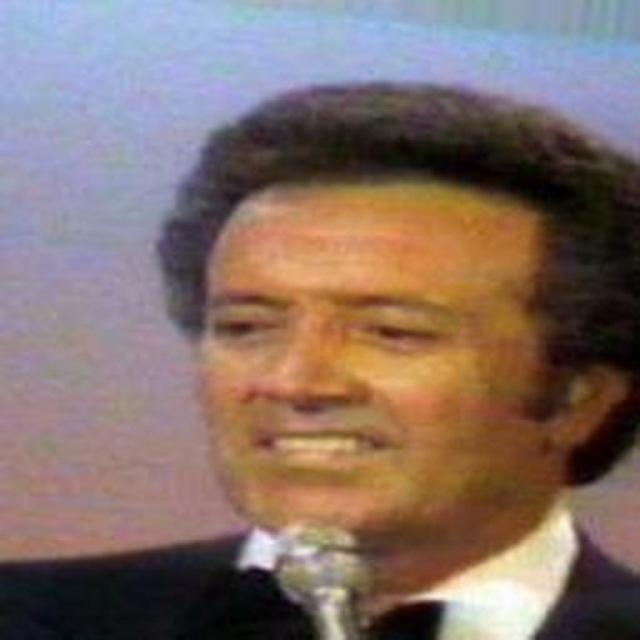bareface: (178, 111, 640, 526)
